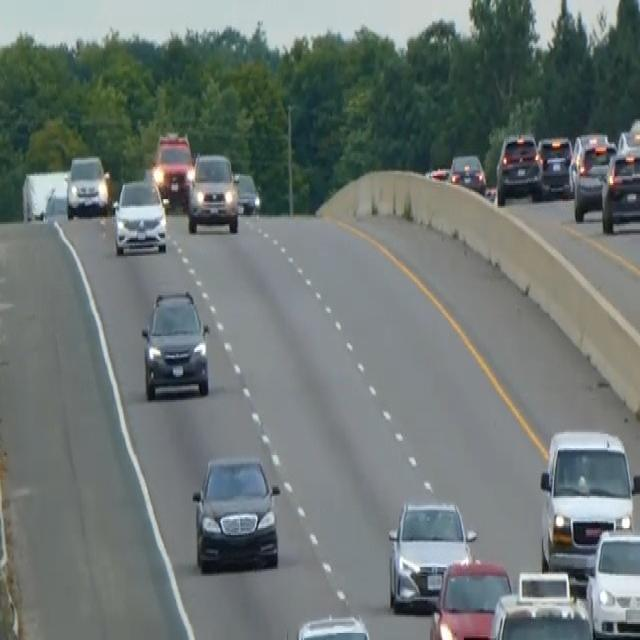car: (191, 452, 281, 572), (386, 498, 476, 612), (140, 286, 210, 400), (488, 569, 594, 638), (428, 556, 512, 638), (585, 526, 639, 638), (185, 149, 239, 233), (111, 176, 167, 256), (571, 135, 616, 221), (600, 137, 639, 233), (495, 130, 542, 204), (64, 153, 109, 219), (536, 134, 573, 198), (293, 612, 373, 638), (448, 151, 486, 194), (233, 169, 260, 215), (425, 164, 449, 182)
jeep: (151, 128, 194, 206)
minivan: (538, 425, 638, 576)
